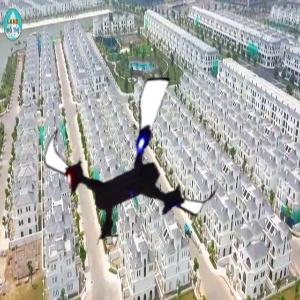drone: (40, 71, 225, 256)
